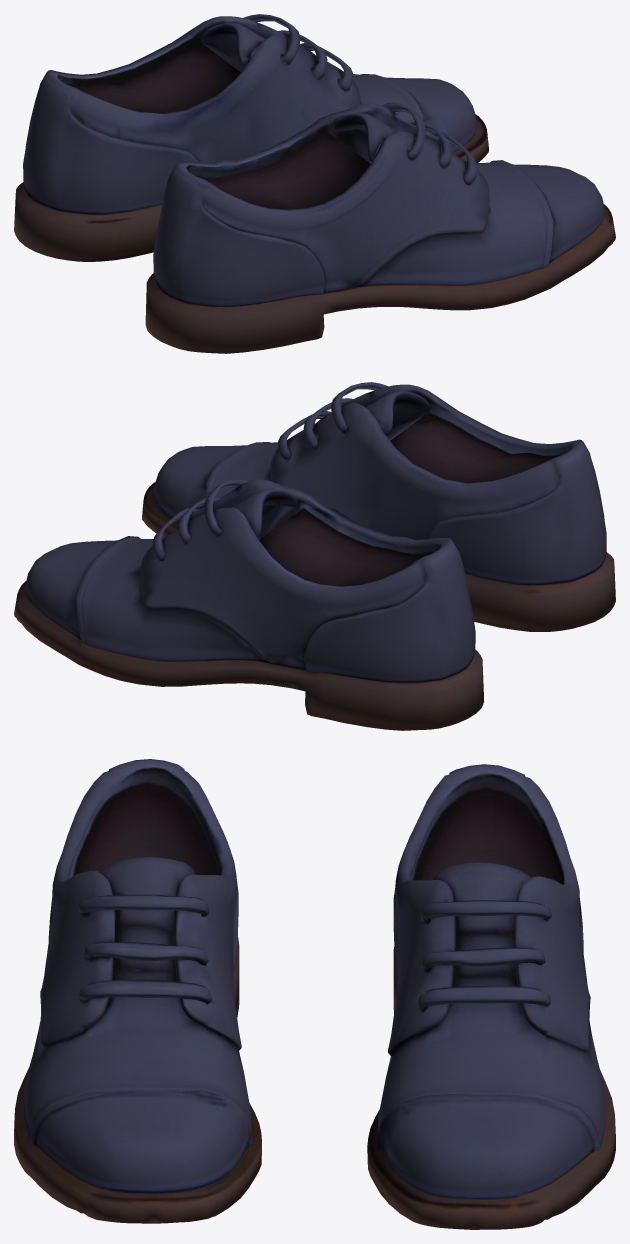
The picture shows the model from 3 angles, top to bottom: view 1: azimuth 30°, elevation 25°; view 2: azimuth 150°, elevation 25°; view 3: azimuth 270°, elevation 25°; orthographic projection. The views are drawn at different scales.
Size of the model in its own units: 0.9976 by 0.3804 by 0.8853.
1 material, 1 textured.
